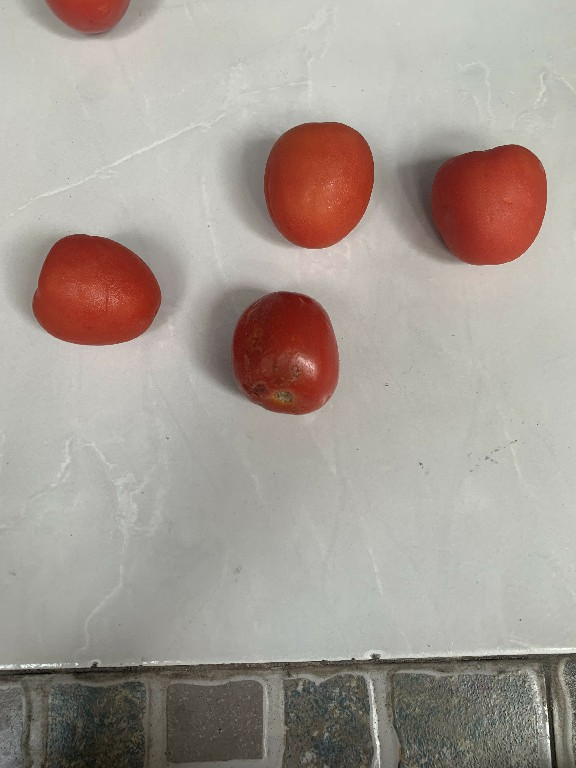NG: (223, 285, 345, 422)
OK: (19, 222, 165, 346), (425, 140, 550, 275), (255, 118, 375, 257)
